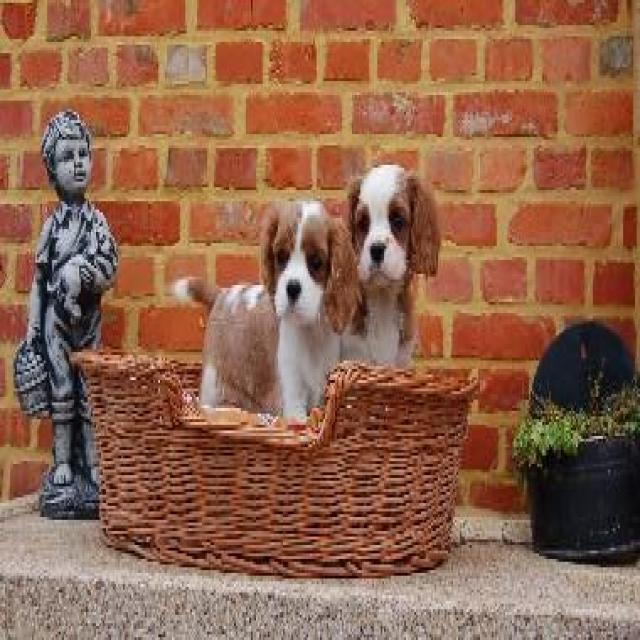blenheim_spaniel: (170, 198, 361, 428), (335, 162, 441, 369)
